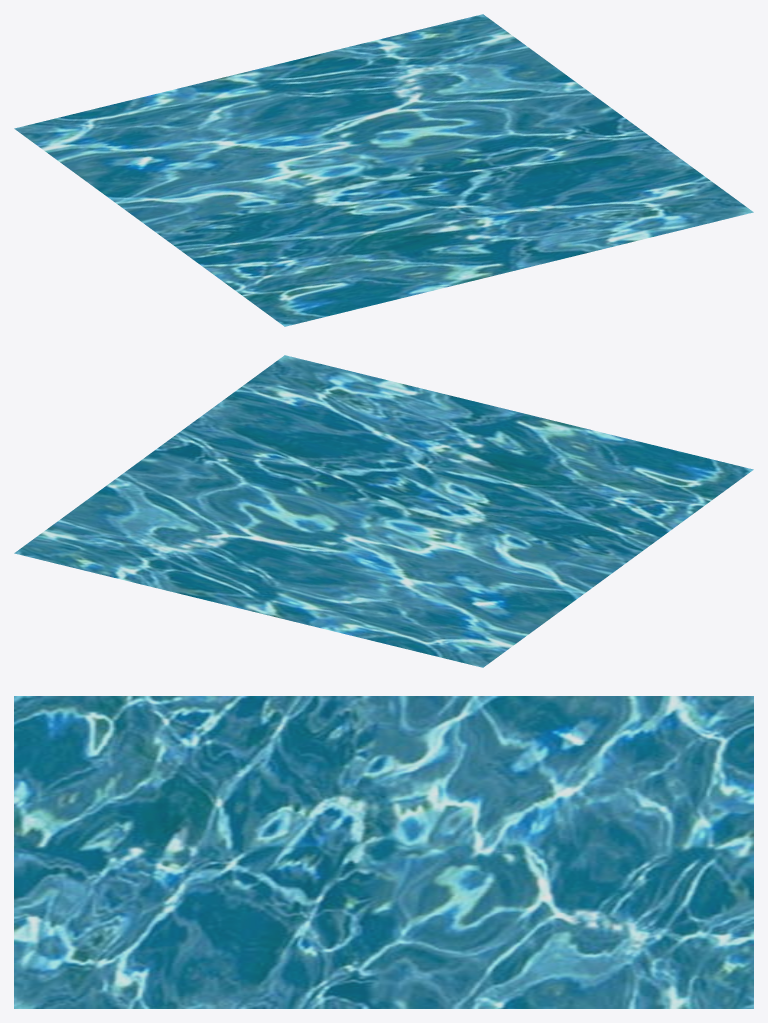
The model's file is water.obj.
3 views of the same model, one above another, from view 1: azimuth 30°, elevation 25°; view 2: azimuth 150°, elevation 25°; view 3: azimuth 270°, elevation 25° (orthographic). The views are drawn at different scales.
Visible parts, largest first — view 1: water_Grid.001; view 2: water_Grid.001; view 3: water_Grid.001.
Part boxes in pixels (x1=…): water_Grid.001: x1=14, y1=14, x2=753, y2=326; water_Grid.001: x1=14, y1=355, x2=753, y2=667; water_Grid.001: x1=14, y1=696, x2=753, y2=1008.
Size of the model in its own units: 200 by 0 by 200.
Materials: 1 (1 with a texture image).
